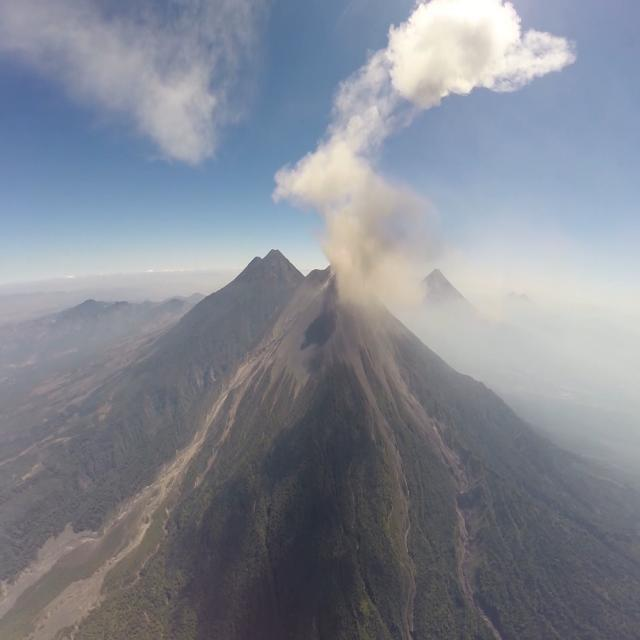Plume: (4, 0, 267, 174), (276, 132, 438, 321), (382, 2, 582, 103)
